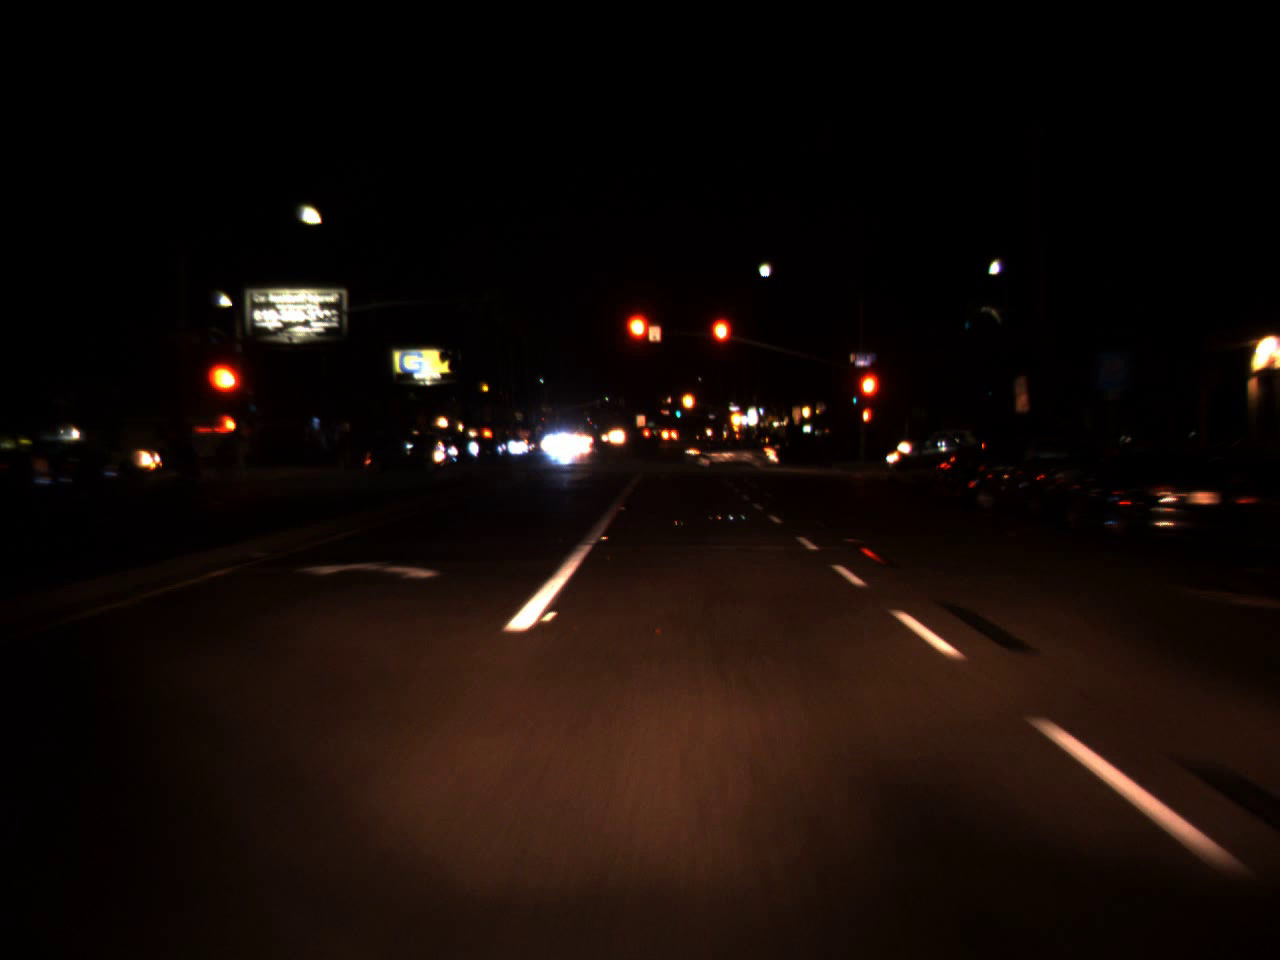go: (673, 403, 682, 418)
stop: (203, 359, 245, 429), (622, 310, 655, 369), (708, 314, 733, 370), (856, 369, 881, 425)
warning: (728, 401, 744, 433), (679, 387, 695, 414)
